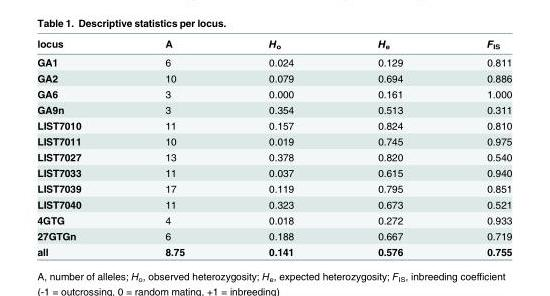table: (36, 36, 511, 257)
table column: (226, 36, 335, 257), (335, 36, 444, 257), (122, 36, 226, 257), (36, 36, 122, 257), (444, 36, 511, 257)
table column header: (36, 36, 511, 52)
table row: (36, 52, 511, 69), (36, 36, 511, 52), (36, 69, 511, 85), (36, 85, 511, 101), (36, 101, 511, 117), (36, 132, 511, 148), (36, 148, 511, 164), (36, 164, 511, 180), (36, 180, 511, 196), (36, 211, 511, 227), (36, 227, 511, 243), (36, 117, 511, 132), (36, 196, 511, 211), (36, 243, 511, 257)
